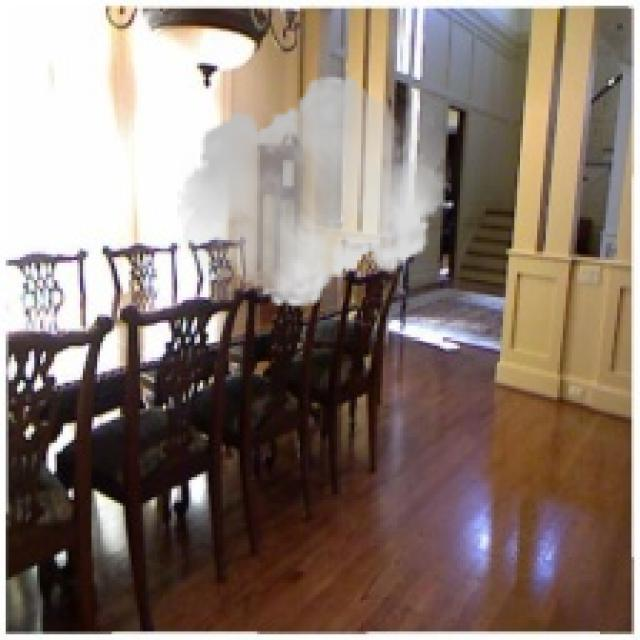Smoke: (177, 65, 452, 318)
